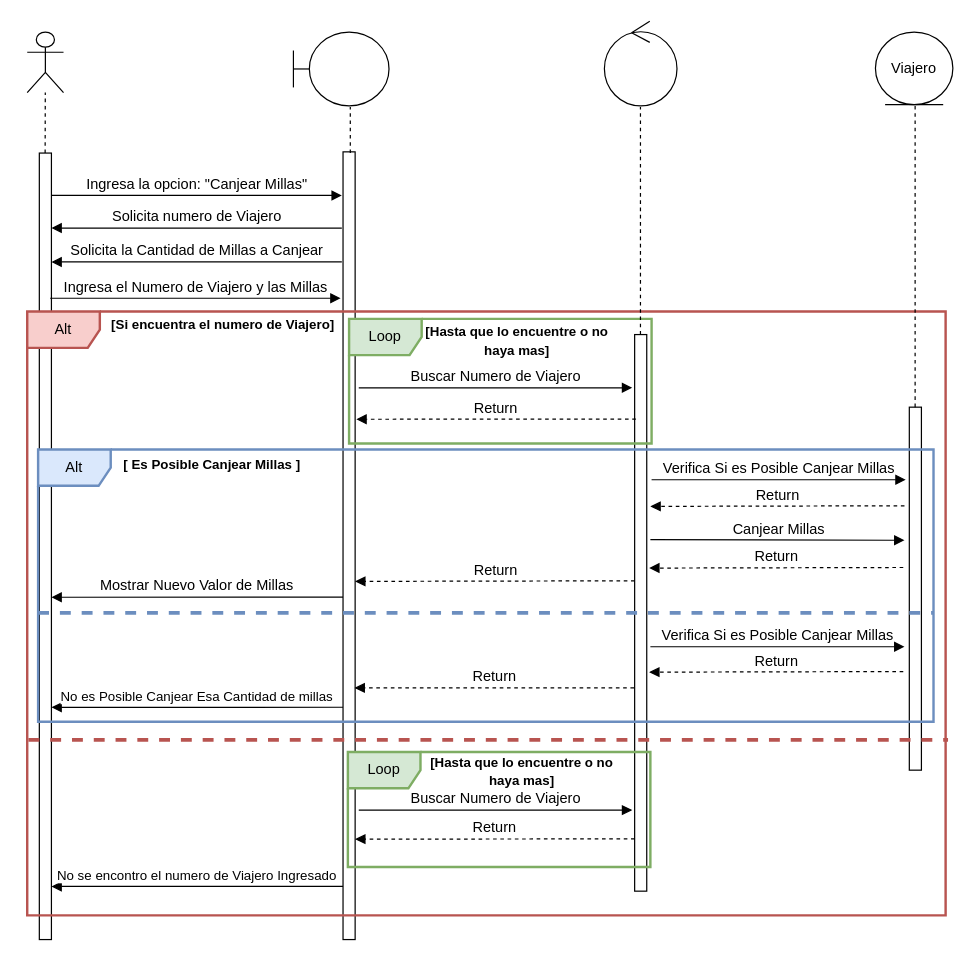
This 974x961 diagram has some shape labels left out. The box of each missing label's shape, as (x1, y1, x2, y2) in pixels:
Controlador: (603, 20, 677, 106)
Interfaz: (292, 31, 389, 106)
Usuario: (26, 31, 64, 93)
